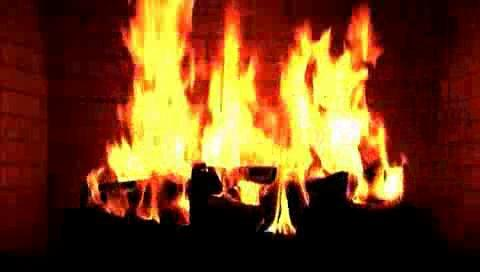fire: (123, 17, 391, 212)
